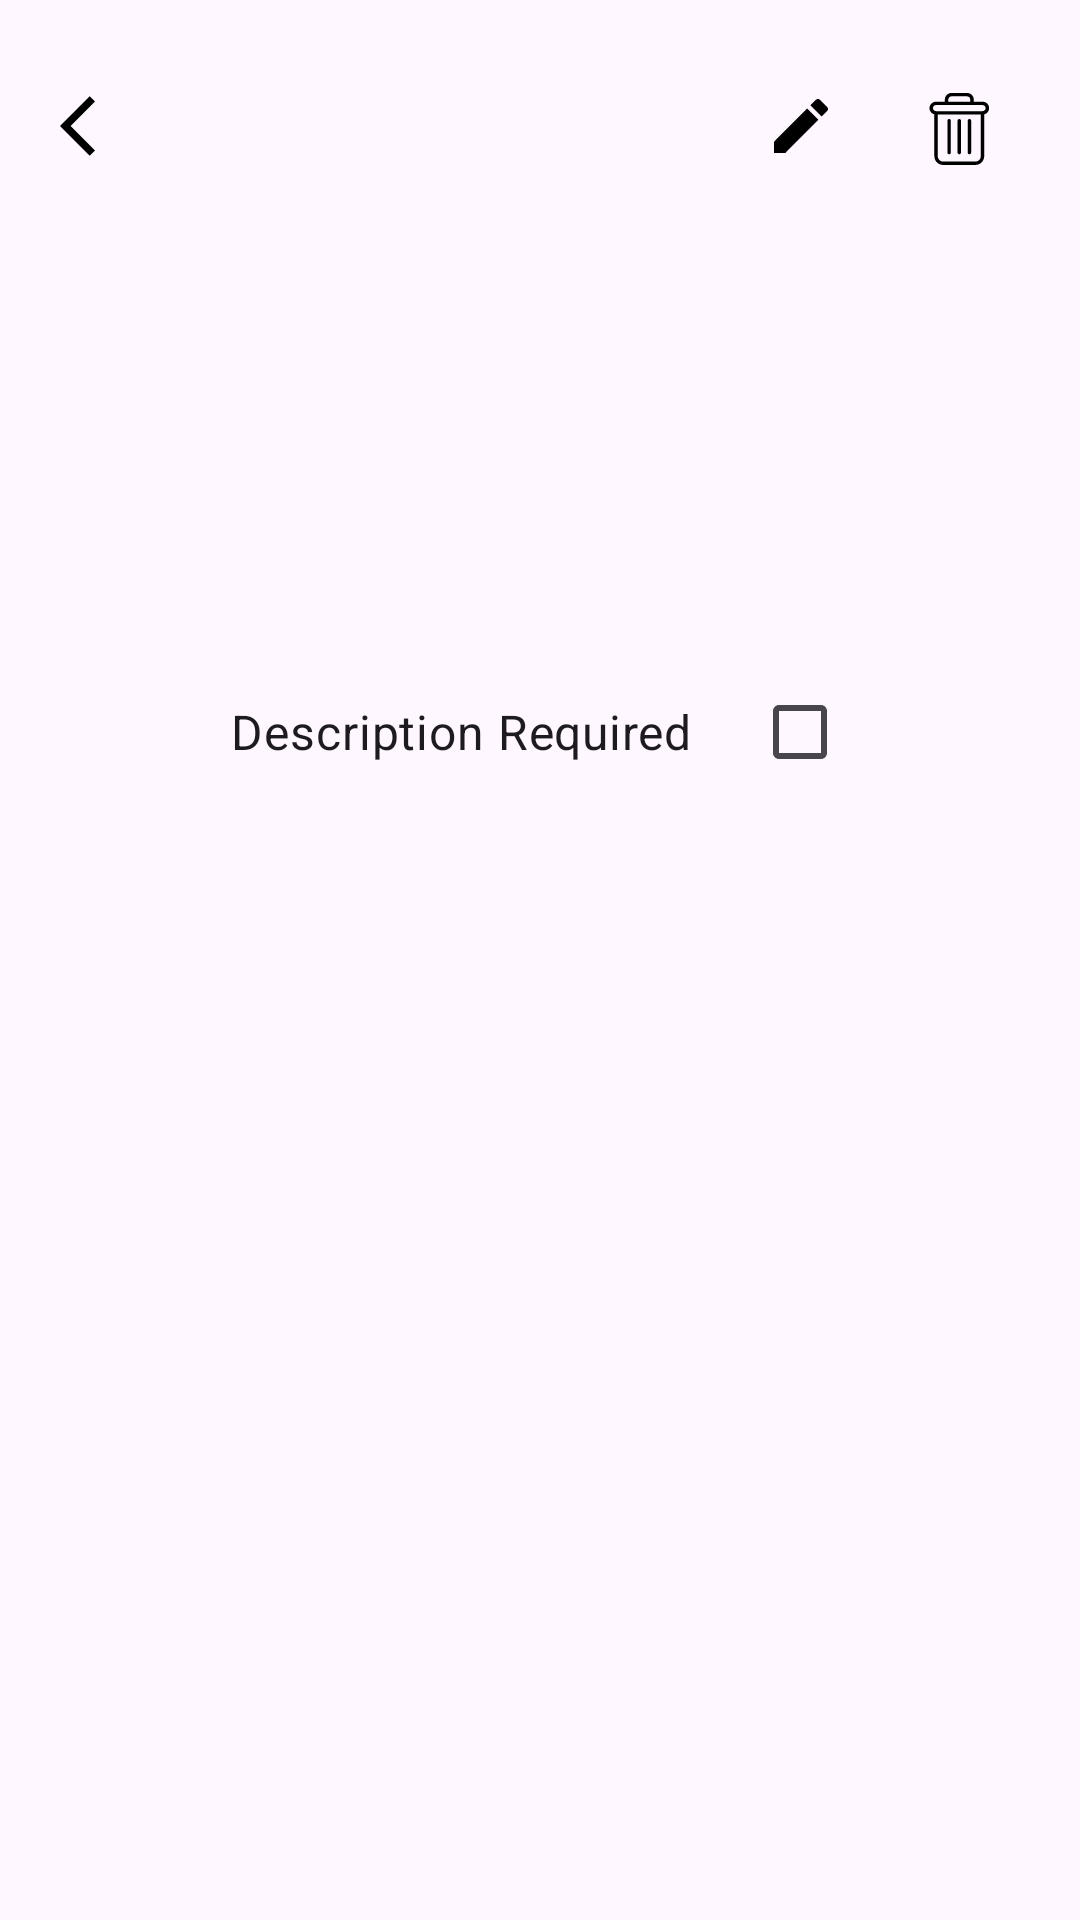

Screen size 1080×1920. Icon name, then its box in pixels as rect(x1, y1, x2, y2):
arrow back: rect(60, 96, 95, 156)
delete: rect(929, 93, 989, 165)
edit: rect(774, 99, 828, 153)
